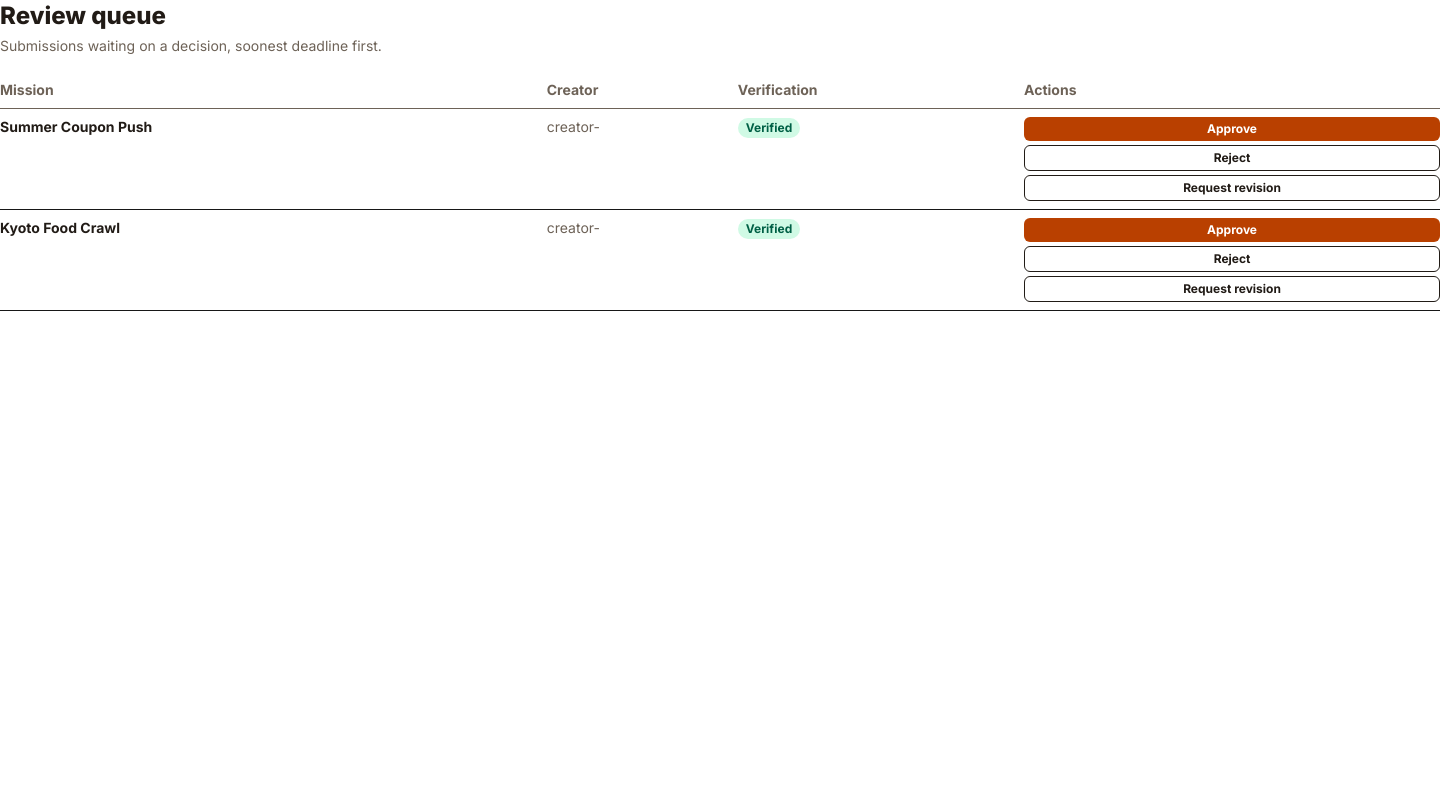
Test: MissionReviewQueueView › keeps one row's reject modal isolated from a sibling submitted row
Click the 1st button "Reject". click: click(1232, 158)
box: [1024,145,1439,171]
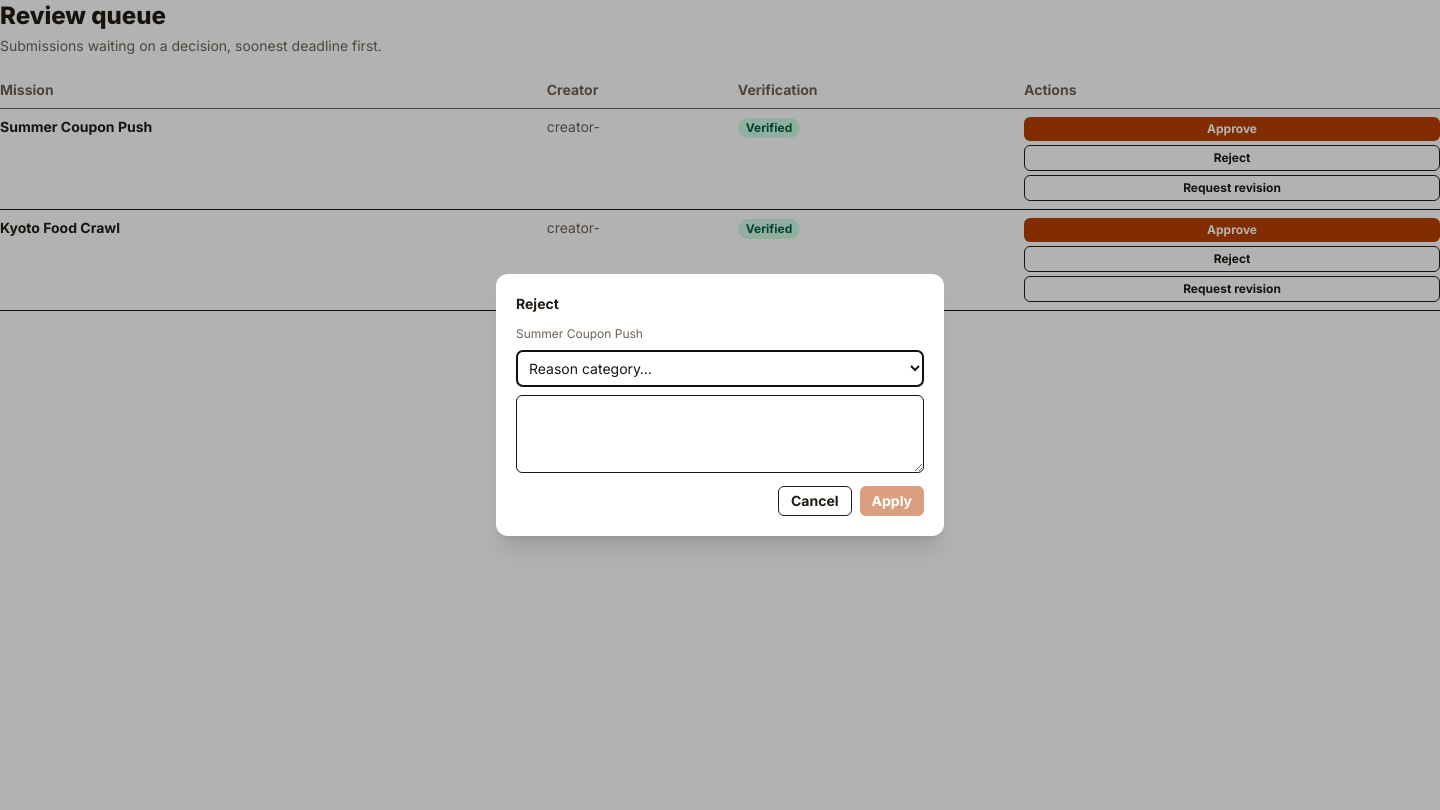
Expected: the button "Reject" is shown, [1024,246,1439,272]
Now the number of dialogs is 1
Now the number of buttons "Approve" is 1, box [1024,218,1439,242]
